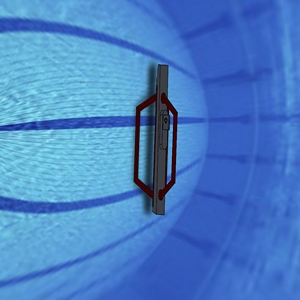submarine: (105, 29, 200, 236)
